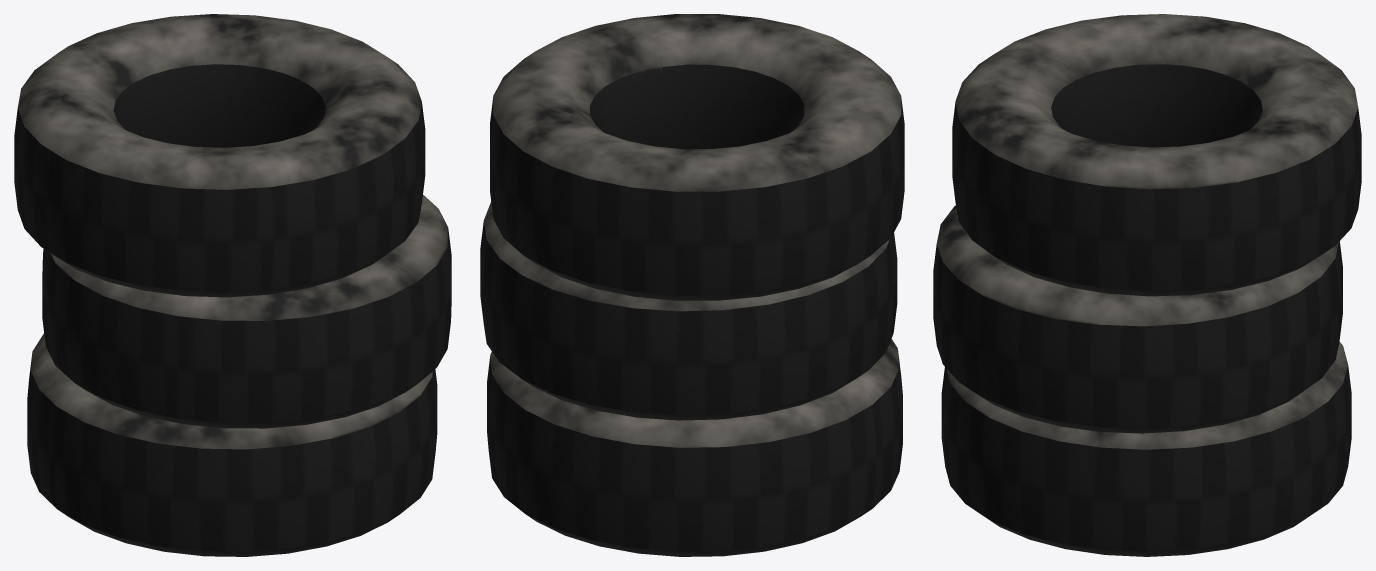
The model's file is W2_TyreStack.fbx.
3 renders of one model, left to right at view 1: azimuth 30°, elevation 25°; view 2: azimuth 150°, elevation 25°; view 3: azimuth 270°, elevation 25°, orthographic.
Parts seen in each view (by area): view 1: W2_TyreStack__W2_Tyre.002, W2_TyreStack__W2_Tyre.001, W2_TyreStack__W2_Tyre; view 2: W2_TyreStack__W2_Tyre.002, W2_TyreStack__W2_Tyre, W2_TyreStack__W2_Tyre.001; view 3: W2_TyreStack__W2_Tyre.002, W2_TyreStack__W2_Tyre.001, W2_TyreStack__W2_Tyre.
Part boxes in pixels (x1,y1,x2,y2): W2_TyreStack__W2_Tyre.002: (14,14,425,297); W2_TyreStack__W2_Tyre.001: (42,195,451,428); W2_TyreStack__W2_Tyre: (27,333,437,556); W2_TyreStack__W2_Tyre.002: (490,14,904,300); W2_TyreStack__W2_Tyre: (487,339,902,556); W2_TyreStack__W2_Tyre.001: (480,201,897,420); W2_TyreStack__W2_Tyre.002: (952,14,1361,296); W2_TyreStack__W2_Tyre.001: (933,205,1342,433); W2_TyreStack__W2_Tyre: (941,341,1351,556).
Size of the model in its own units: 252 by 252 by 251.
Materials: 1 (1 with a texture image).
